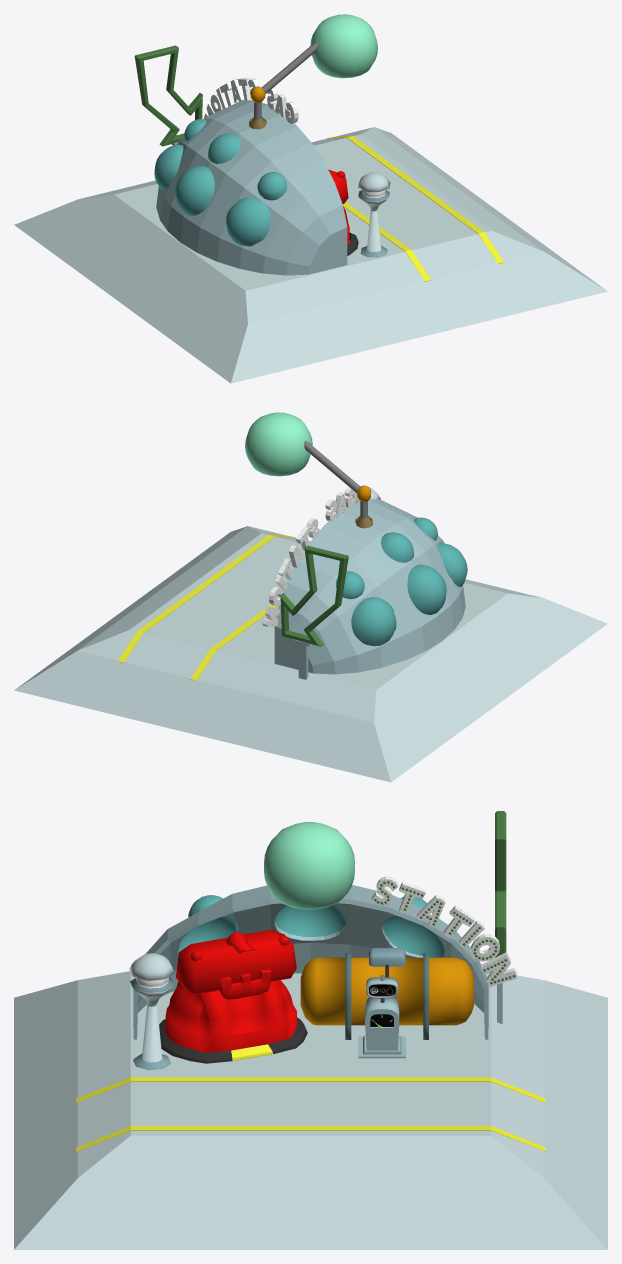
The model's file is pompiste.fbx.
The picture shows the model from 3 angles, top to bottom: view 1: azimuth 30°, elevation 25°; view 2: azimuth 150°, elevation 25°; view 3: azimuth 270°, elevation 25°; orthographic projection. The views are drawn at different scales.
Parts seen in each view (by area): view 1: floor.001, GasHouse.001, Sphere.006, arrowPanel.002, GroundMarks.001, Text.001, CPIndicator, Cylinder.004; view 2: floor.001, GasHouse.001, Sphere.006, arrowPanel.002, Text.001, GroundMarks.001, Cylinder.004; view 3: floor.001, GasHouse.001, Pumpist_for_export, Circle.001, Sphere.006, GroundMarks.001, Text.001, CPIndicator, GasPump.001, PumpistHideout, arrowPanel.002, lamps.001 (+2 smaller).
Boxes of the visible parts, x1,y1,x2,y2 form: floor.001: [14, 127, 607, 383]; GasHouse.001: [154, 100, 347, 275]; Sphere.006: [310, 14, 377, 78]; arrowPanel.002: [134, 45, 202, 146]; GroundMarks.001: [327, 136, 504, 281]; Text.001: [204, 78, 298, 123]; CPIndicator: [358, 172, 390, 257]; Cylinder.004: [261, 41, 317, 93]; floor.001: [14, 526, 607, 782]; GasHouse.001: [274, 499, 467, 674]; Sphere.006: [245, 412, 312, 476]; arrowPanel.002: [280, 545, 348, 646]; Text.001: [262, 486, 356, 626]; GroundMarks.001: [117, 535, 293, 680]; Cylinder.004: [304, 440, 359, 493]; floor.001: [14, 971, 607, 1249]; GasHouse.001: [133, 885, 488, 1039]; Pumpist_for_export: [165, 929, 296, 1052]; Circle.001: [300, 953, 473, 1039]; Sphere.006: [264, 822, 354, 909]; GroundMarks.001: [76, 1077, 545, 1151]; Text.001: [371, 876, 516, 987]; CPIndicator: [129, 953, 174, 1070]; GasPump.001: [358, 997, 405, 1058]; PumpistHideout: [159, 1017, 307, 1063]; arrowPanel.002: [495, 811, 506, 957]; lamps.001: [374, 881, 515, 984].
Bounding box in the file's own units: 45.72 × 45.53 × 26.86.
